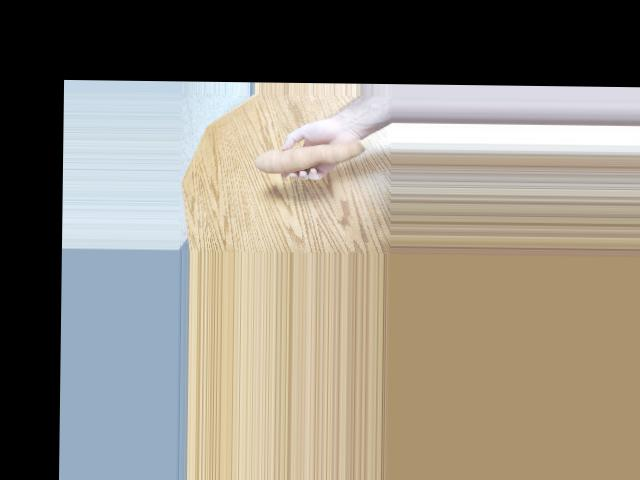sweet_potato: (254, 137, 359, 182)
